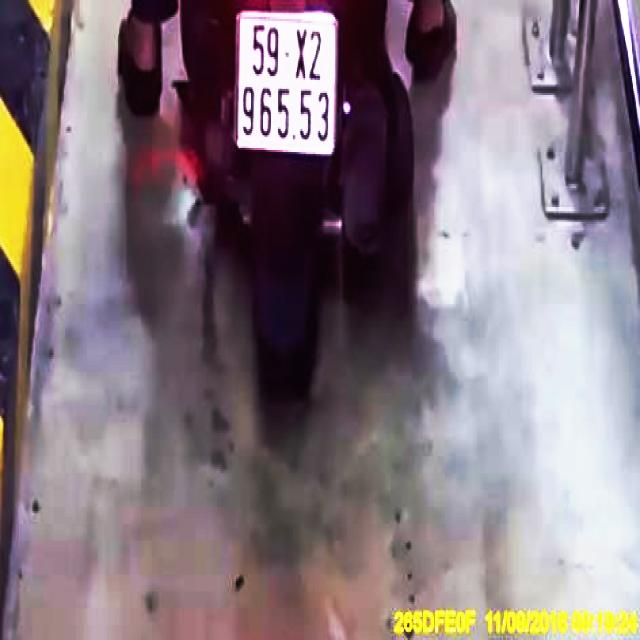license_plate: (238, 15, 335, 156)
